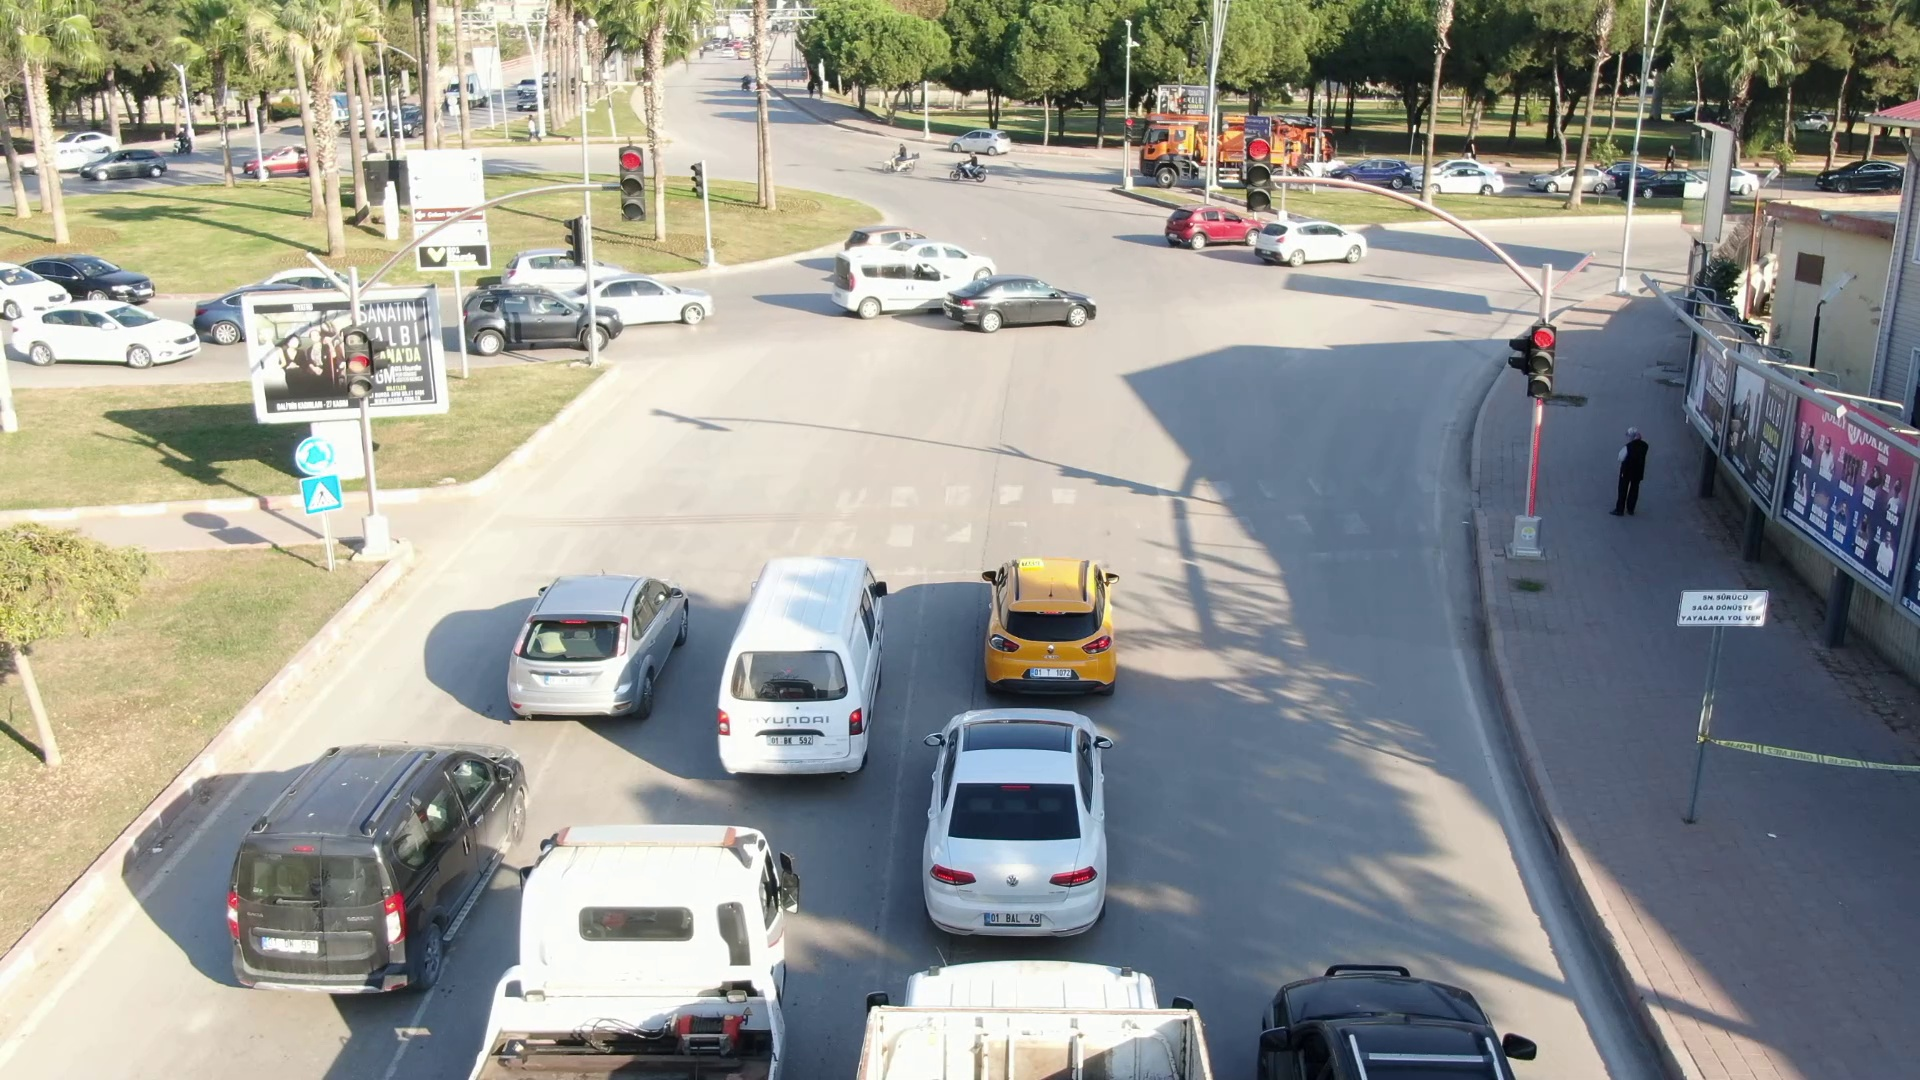car: (229, 745, 526, 1001), (924, 705, 1113, 936), (713, 560, 889, 785), (508, 570, 694, 713), (982, 555, 1116, 691), (15, 301, 204, 365), (935, 274, 1109, 335), (462, 294, 620, 345), (1253, 218, 1366, 272), (1811, 156, 1908, 199), (1162, 208, 1262, 251), (1527, 164, 1615, 199), (79, 153, 170, 185), (1420, 161, 1502, 195), (956, 127, 1015, 158)
